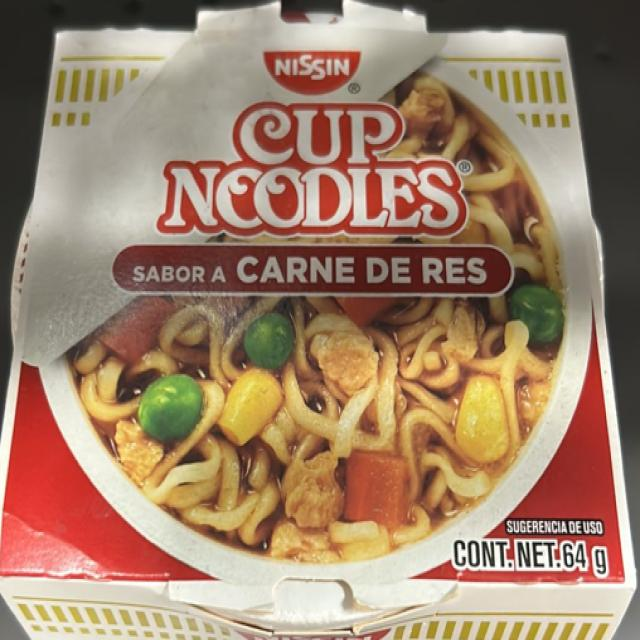nissinRes: (58, 33, 569, 637)
